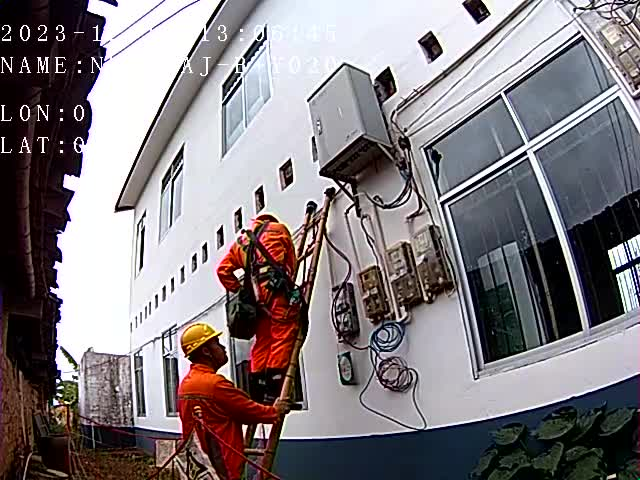halt: (182, 326, 230, 372)
